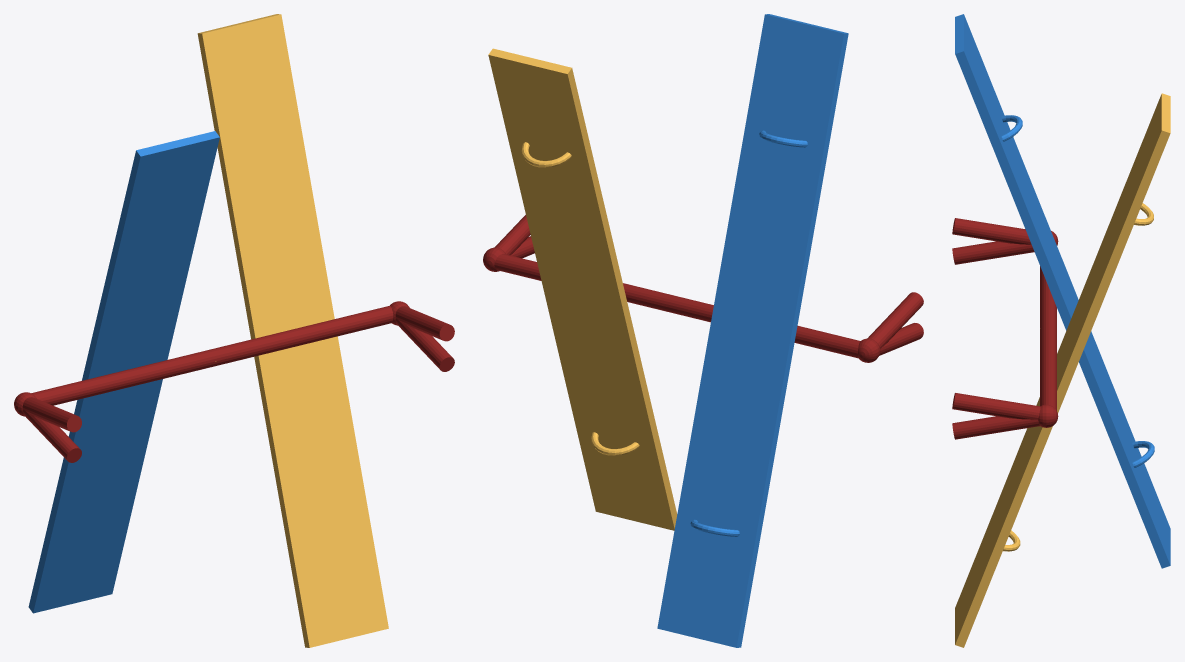
Rendered from gangorra.fbx.
3 views of the same model, side by side, from view 1: azimuth 30°, elevation 25°; view 2: azimuth 150°, elevation 25°; view 3: azimuth 270°, elevation 25° (orthographic). The views are drawn at different scales.
Visible parts, largest first — view 1: Cube.002; view 2: Cube.002; view 3: Cube.002.
Boxes of the visible parts, x1,y1,x2,y2 form: Cube.002: [14, 14, 454, 647]; Cube.002: [483, 14, 923, 647]; Cube.002: [952, 14, 1170, 647].
Size of the model in its own units: 518 by 676 by 258.
